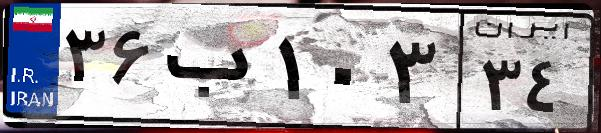0: (330, 28, 385, 110)
1: (270, 28, 330, 110)
3: (385, 28, 445, 110), (57, 26, 110, 100), (475, 38, 525, 113)
4: (525, 38, 570, 115)
6: (110, 28, 158, 98)
ب: (158, 20, 270, 120)
